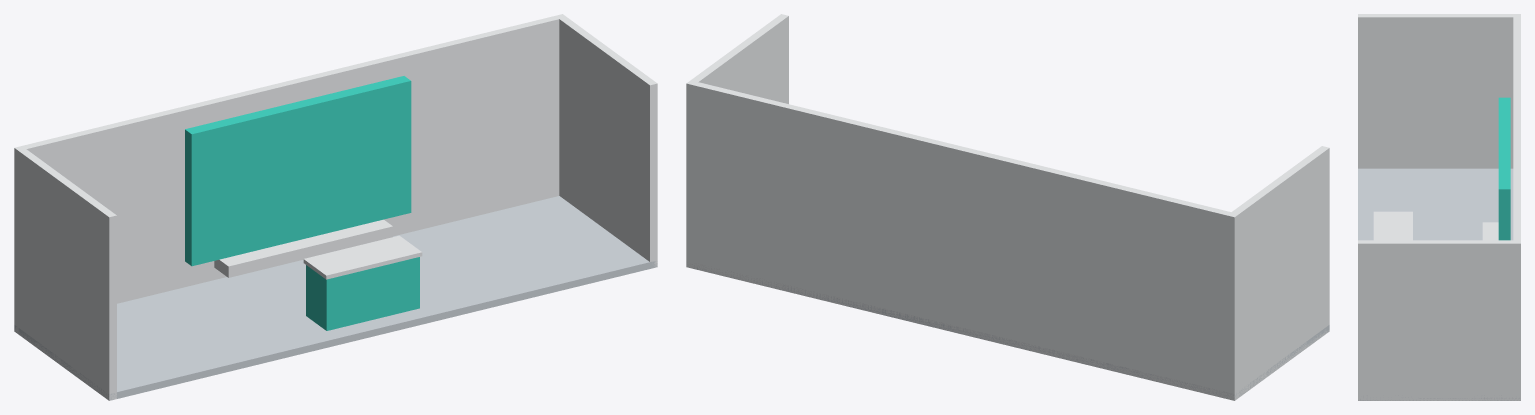
3 views of the same model, side by side, from view 1: azimuth 30°, elevation 25°; view 2: azimuth 150°, elevation 25°; view 3: azimuth 270°, elevation 25° (orthographic). The views are drawn at different scales.
Visible parts, largest first — view 1: Exhibition Booth Concept; view 2: Exhibition Booth Concept; view 3: Exhibition Booth Concept.
Part boxes in pixels (x1,y1,x2,y2): Exhibition Booth Concept: (14, 14, 657, 400); Exhibition Booth Concept: (686, 14, 1329, 400); Exhibition Booth Concept: (1358, 14, 1520, 400).
Bounding box in the file's own units: 10 × 3.2 × 3.
